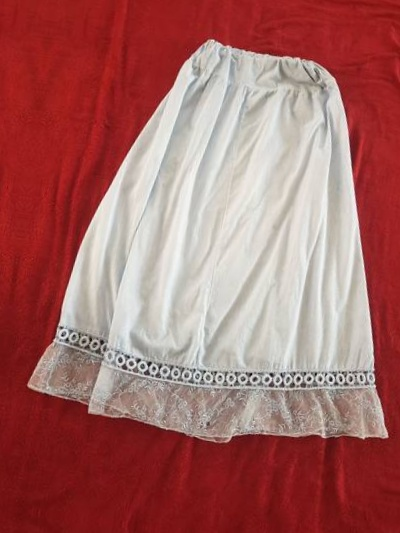Dress: (9, 13, 400, 504), (0, 0, 32, 448)
